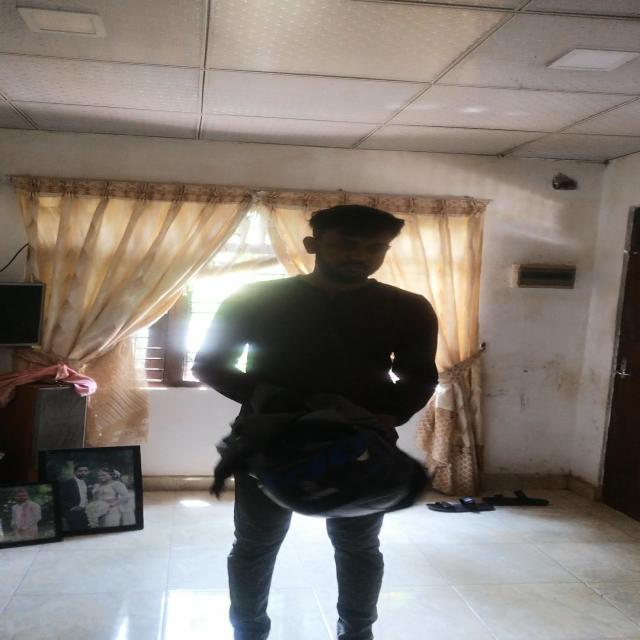Person: (188, 201, 450, 640)
